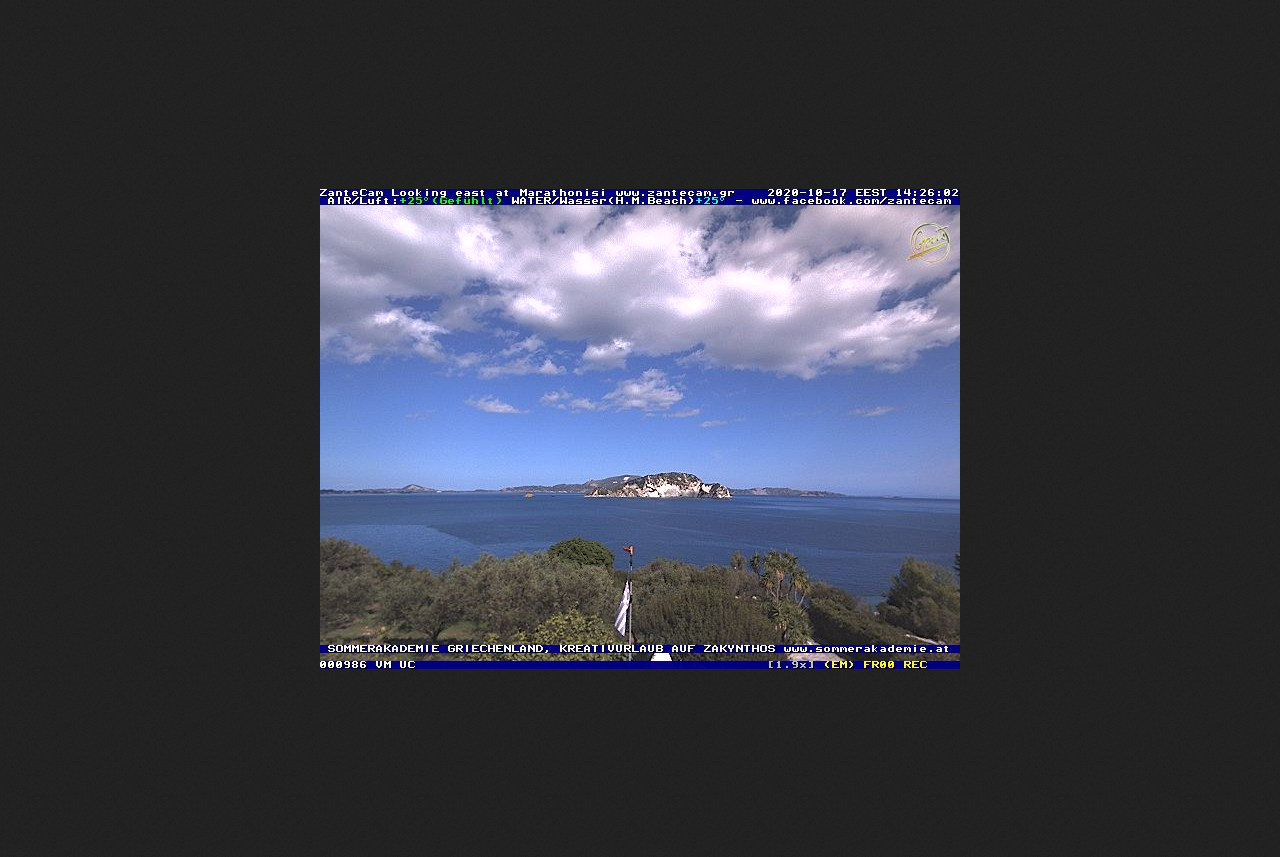no: (610, 563, 638, 645)
